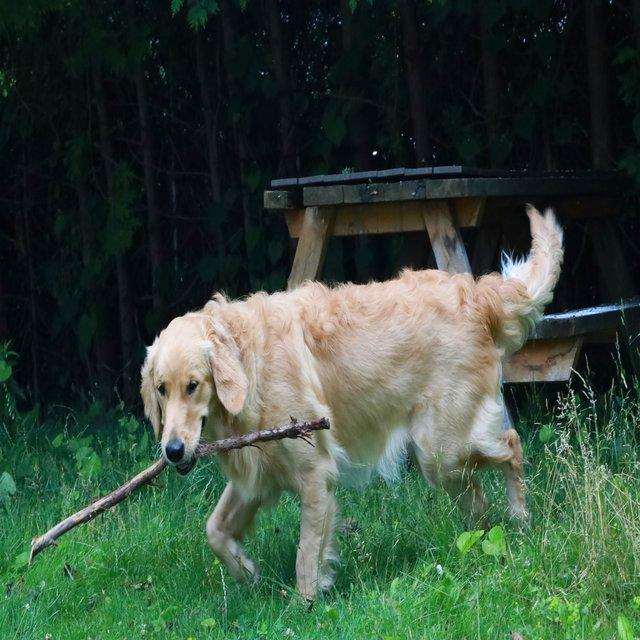retriever: (138, 201, 565, 605)
